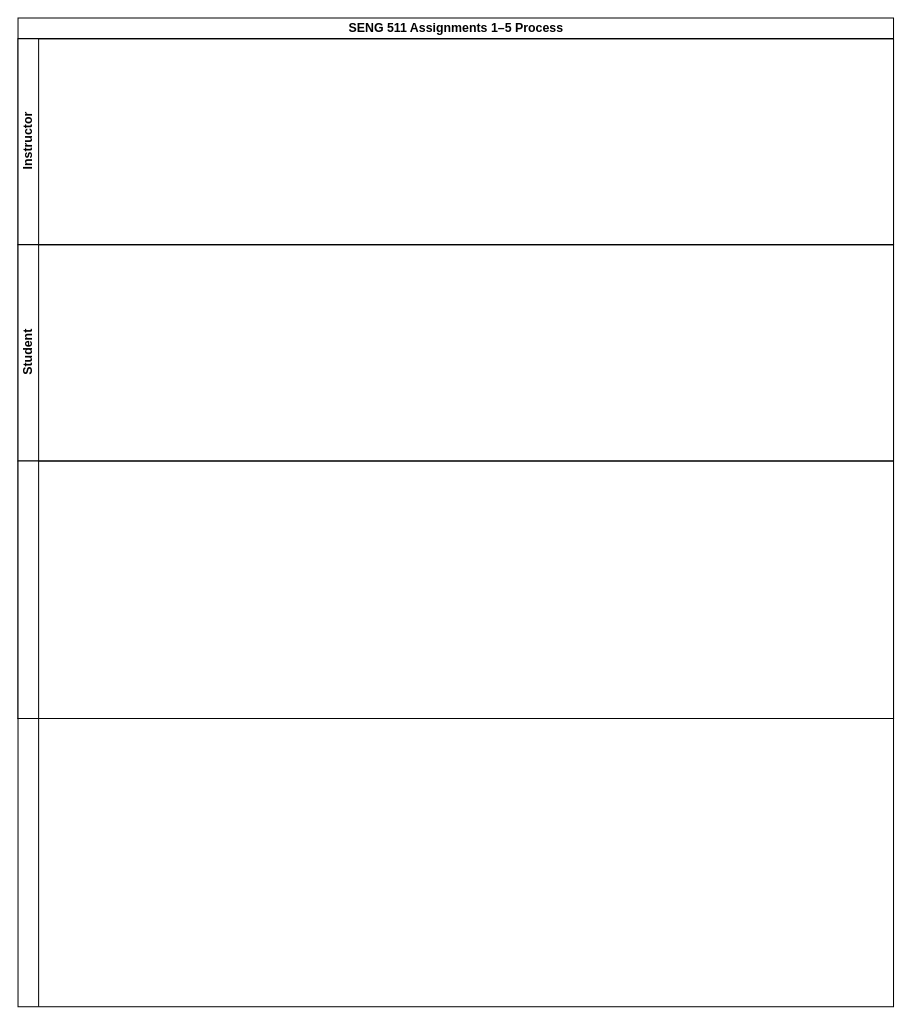
This 912x1025 diagram has some shape labels left out. The centre of each missing label's shape, as x and y in pixels:
"Team Members" goes at (455,589).
"Tools & Systems" goes at (455,862).
